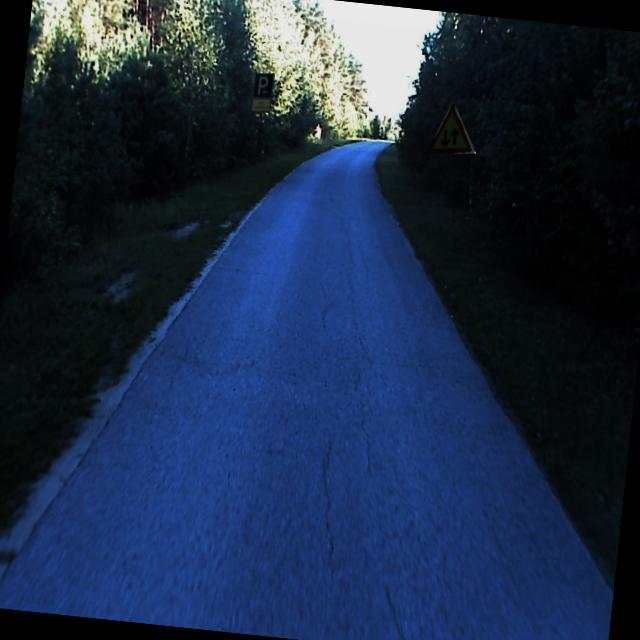road: (0, 138, 613, 640)
